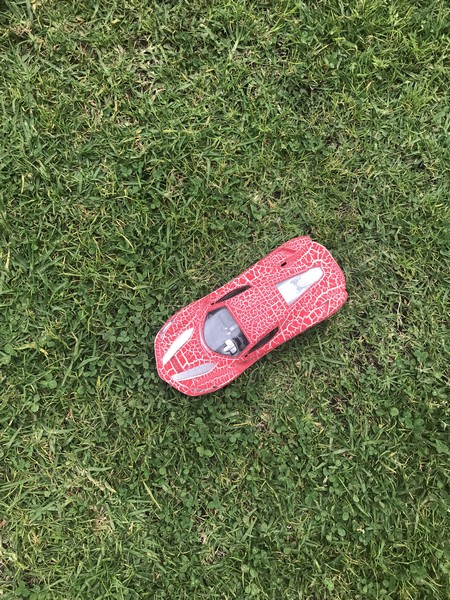RC: (153, 235, 350, 399)
